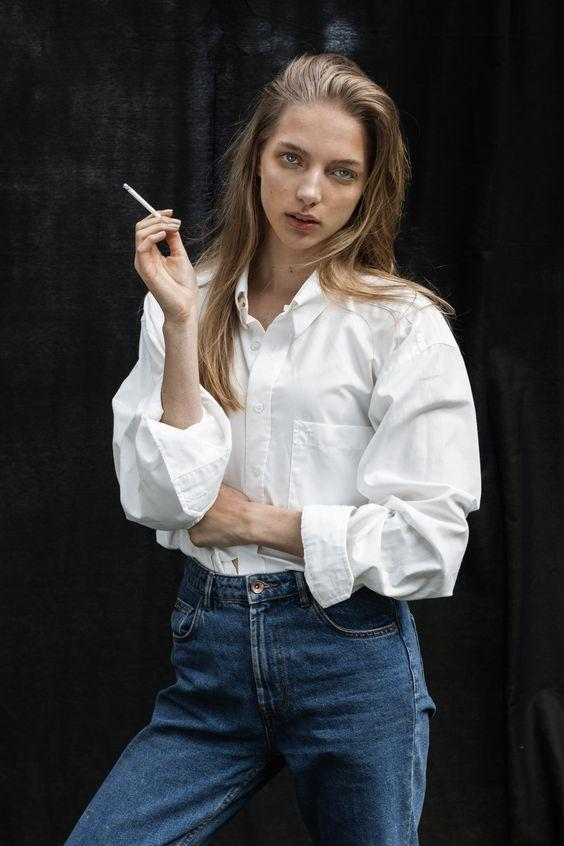cigarette: (122, 182, 160, 217)
